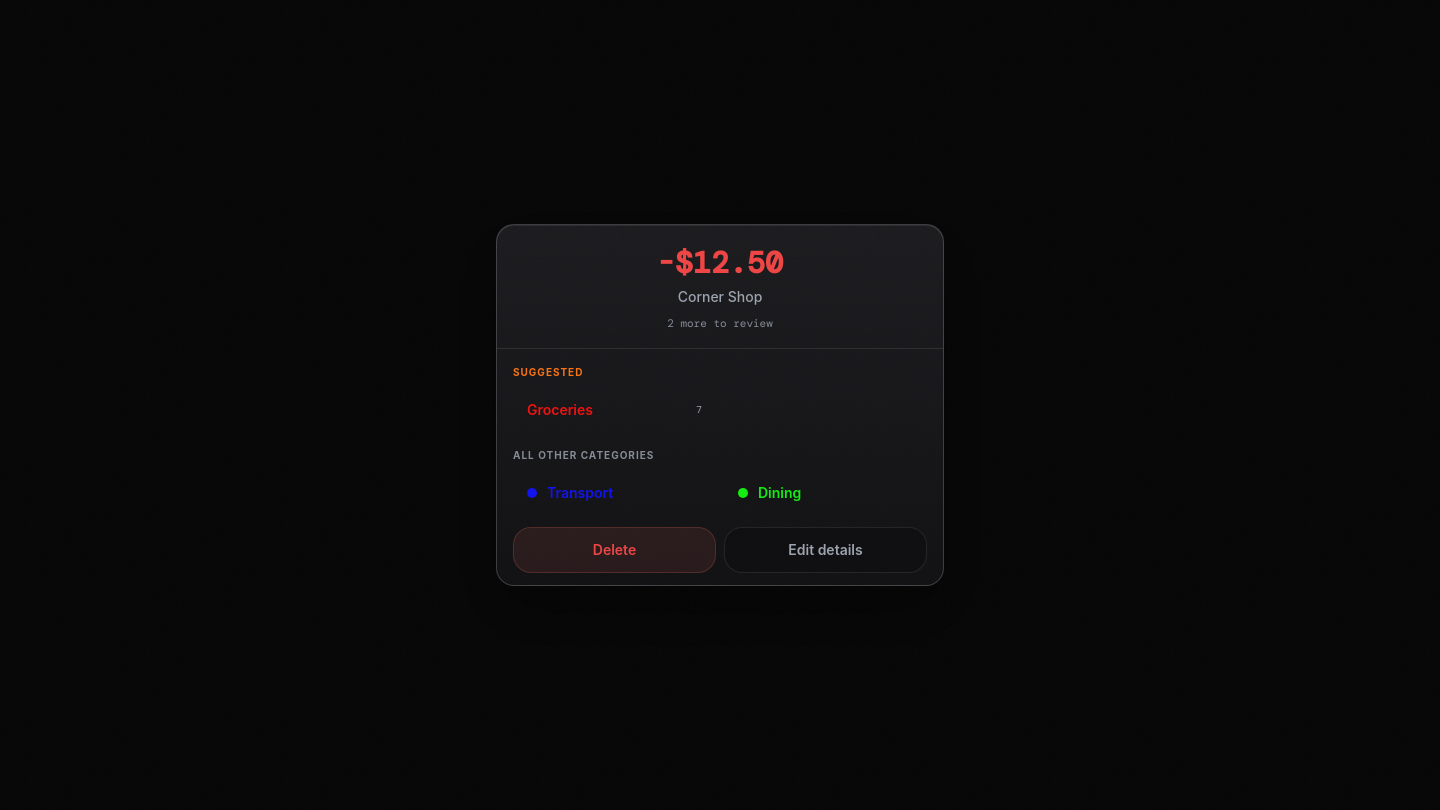
auto-advance › moves to the next uncategorized transaction instead of closing
expect the text "Corner Shop" is shown: met, box [678,288,762,305]
Click the button "Groceries 7" at (614, 410), box [513,388,716,432]
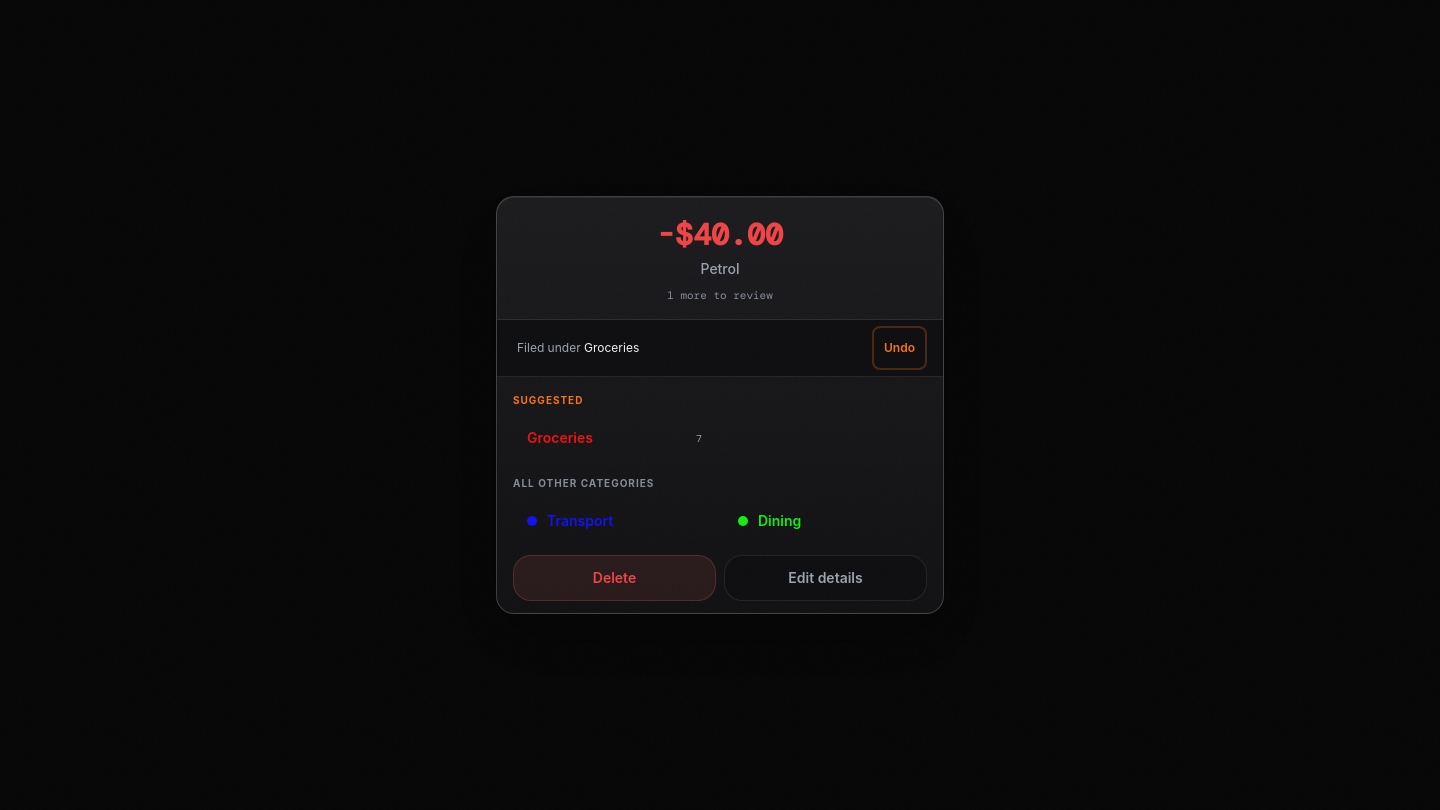
expect the text "Petrol" is shown: met, box [700,260,740,277]
expect the text "Corner Shop" is gone: met
